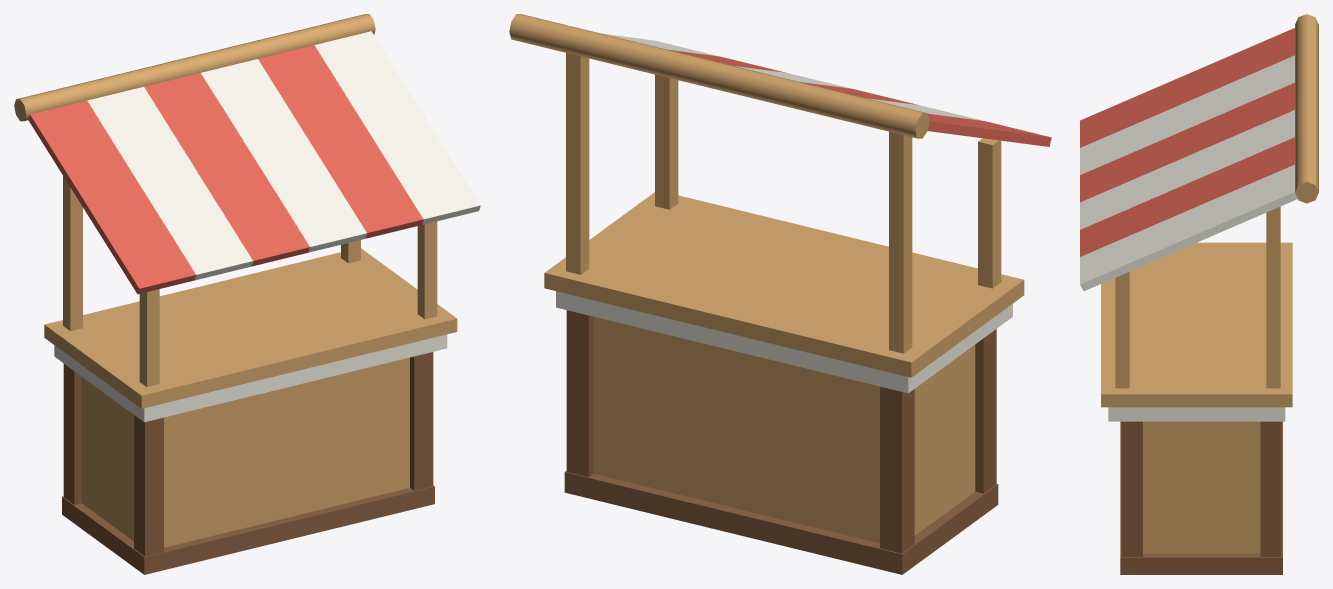
File: market-stall.lod1.glb
3 renders of one model, left to right at view 1: azimuth 30°, elevation 25°; view 2: azimuth 150°, elevation 25°; view 3: azimuth 270°, elevation 25°, orthographic. The views are drawn at different scales.
Visible parts, largest first — view 1: market-stall_lod1; view 2: market-stall_lod1; view 3: market-stall_lod1.
Part boxes in pixels (bbox=[...]): market-stall_lod1: bbox=[14, 14, 480, 574]; market-stall_lod1: bbox=[509, 14, 1051, 574]; market-stall_lod1: bbox=[1080, 14, 1318, 574].
Bounding box in the file's own units: 1.66 × 1.88 × 0.9975.
